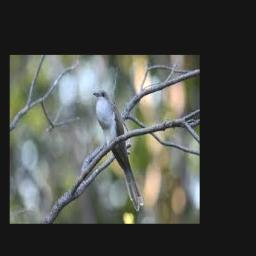Cuckoo: (92, 89, 143, 210)
